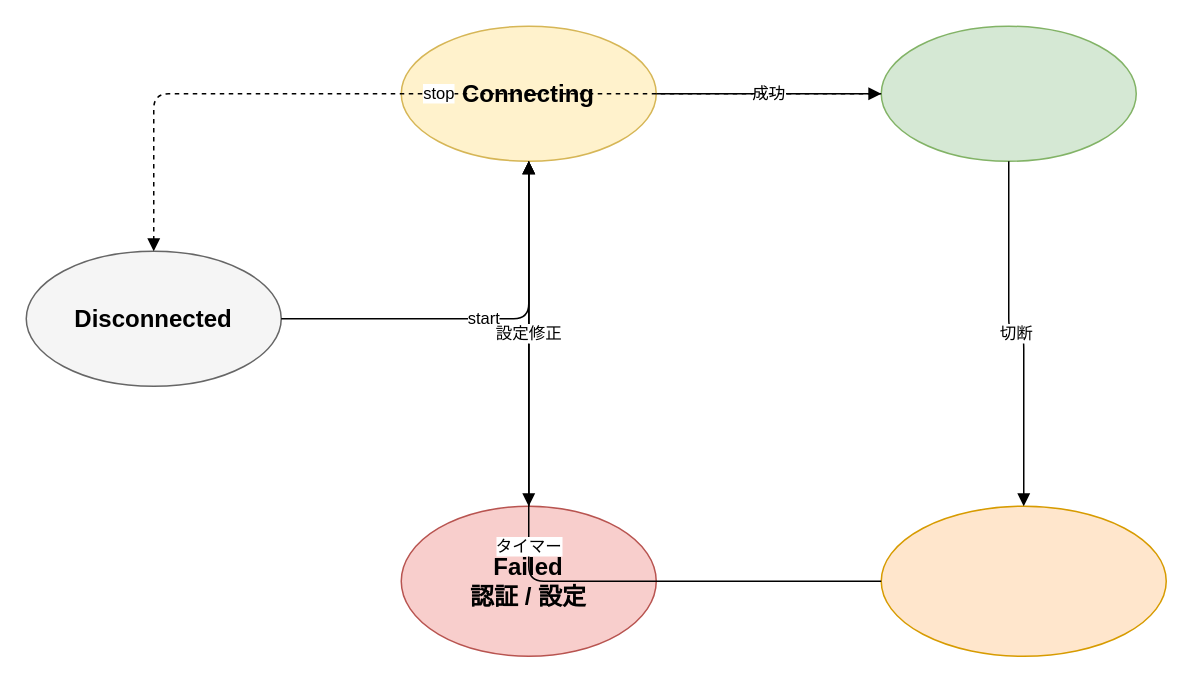
The diagram is 1193 pixels wide and 683 high, and some of its shapes have lost their labels. The shapes that lost their labels are listed below. From the top down, each one's box as (x1, y1, x2, y2) in pixels, then its label:
(880, 25, 1136, 161): Connected
(880, 505, 1166, 656): Reconnecting 1 2 4 8 10秒
